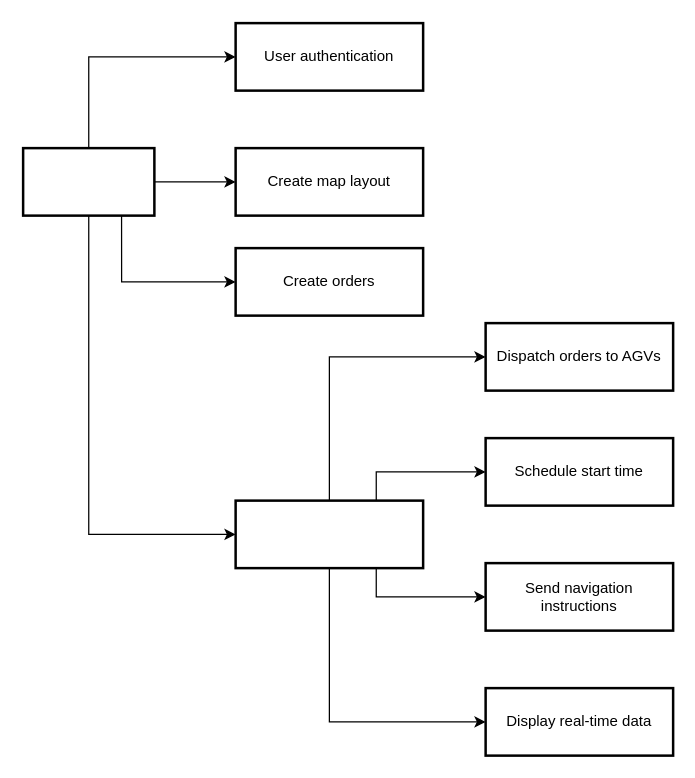
Image size: 695x778. Some labels were removed from this diagram. Here are the shapes that lost their labels. From the top down, the centre of each, then its label:
At pixel 88 181: "Server".
At pixel 329 534: "Manage AGVs".
